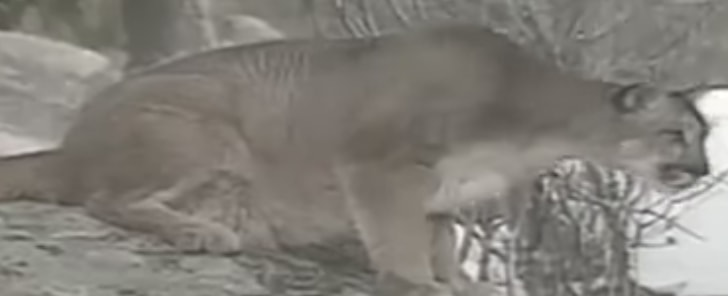Mountain Lion: (12, 19, 713, 293)
